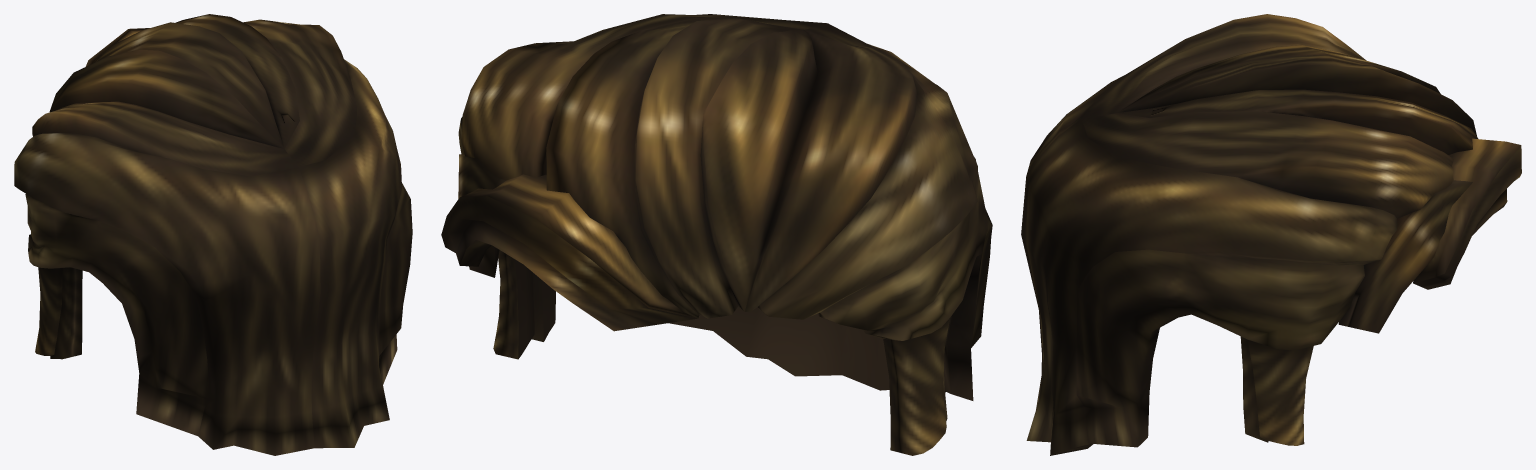
Rendered from hair_max.obj.
The picture shows the model from 3 angles, left to right: view 1: azimuth 30°, elevation 25°; view 2: azimuth 150°, elevation 25°; view 3: azimuth 270°, elevation 25°; orthographic projection. The views are drawn at different scales.
Visible parts, largest first — view 1: Hair; view 2: Hair; view 3: Hair.
Boxes of the visible parts, x1,y1,x2,y2 form: Hair: [14, 14, 412, 455]; Hair: [441, 14, 992, 455]; Hair: [1021, 14, 1521, 455].
Bounding box in the file's own units: 1.49 × 1.36 × 1.65.
Materials: 1 (1 with a texture image).
